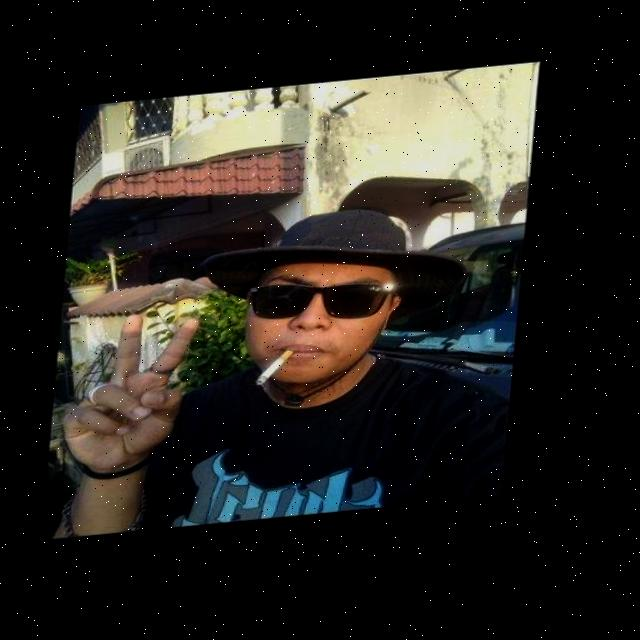cigarette: (265, 357, 300, 388)
